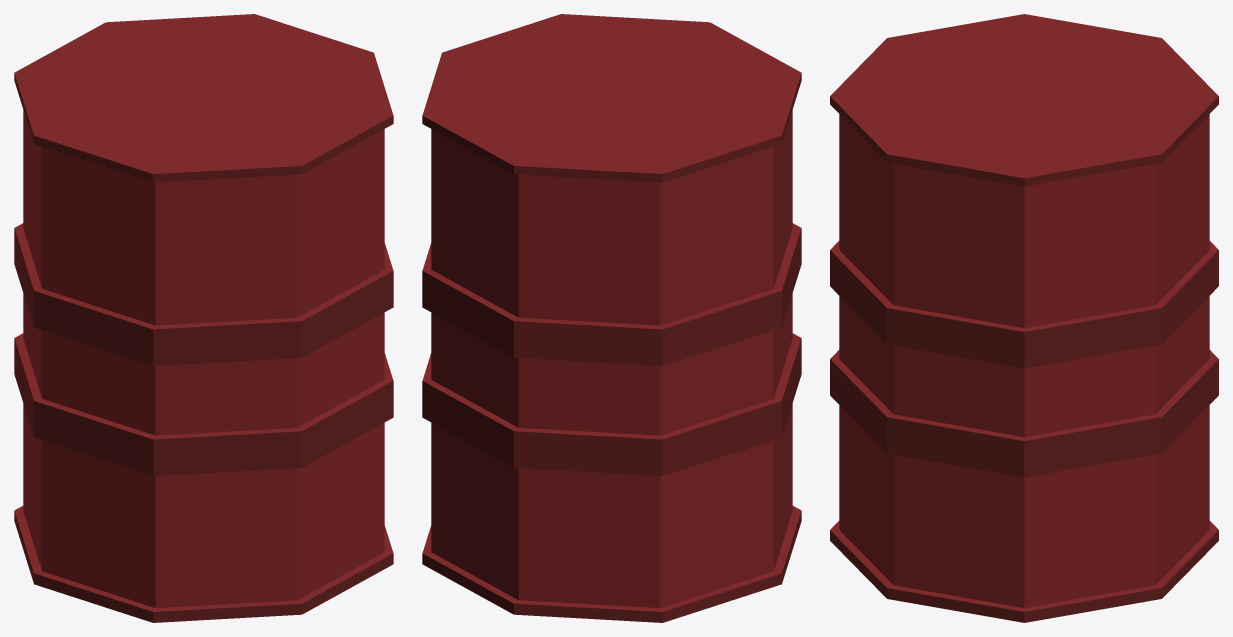
Rendered from barrel.fbx.
3 views of the same model, side by side, from view 1: azimuth 30°, elevation 25°; view 2: azimuth 150°, elevation 25°; view 3: azimuth 270°, elevation 25° (orthographic).
Parts seen in each view (by area): view 1: Cylinder -col; view 2: Cylinder -col; view 3: Cylinder -col.
Boxes of the visible parts, x1,y1,x2,y2 form: Cylinder -col: [14, 14, 393, 622]; Cylinder -col: [422, 14, 801, 622]; Cylinder -col: [830, 14, 1218, 622].
Bounding box in the file's own units: 210 × 265 × 210.
